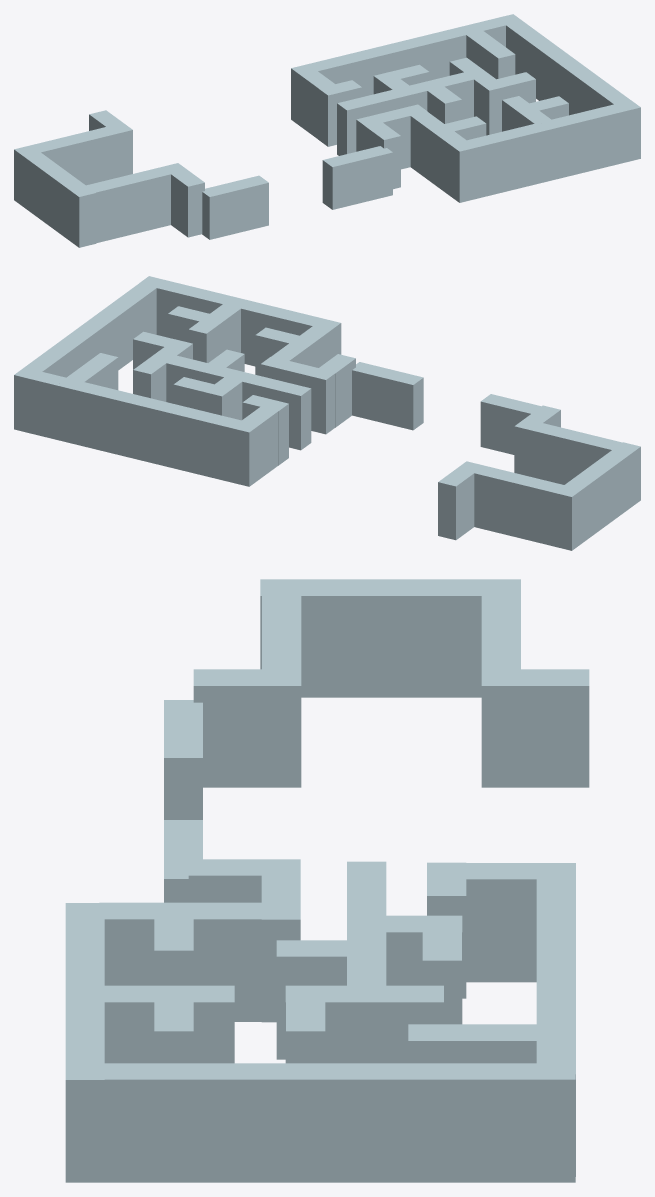
Rendered from laberinto4.fbx.
3 renders of one model, top to bottom at view 1: azimuth 30°, elevation 25°; view 2: azimuth 150°, elevation 25°; view 3: azimuth 270°, elevation 25°, orthographic. The views are drawn at different scales.
Parts seen in each view (by area): view 1: Cube.005; view 2: Cube.005; view 3: Cube.005.
Boxes of the visible parts, <box> form: Cube.005: <box>14,14,640,247</box>; Cube.005: <box>14,276,640,550</box>; Cube.005: <box>65,579,589,1182</box>.
Bounding box in the file's own units: 3019 × 289 × 1335.
Materials: 1 (1 with a texture image).
